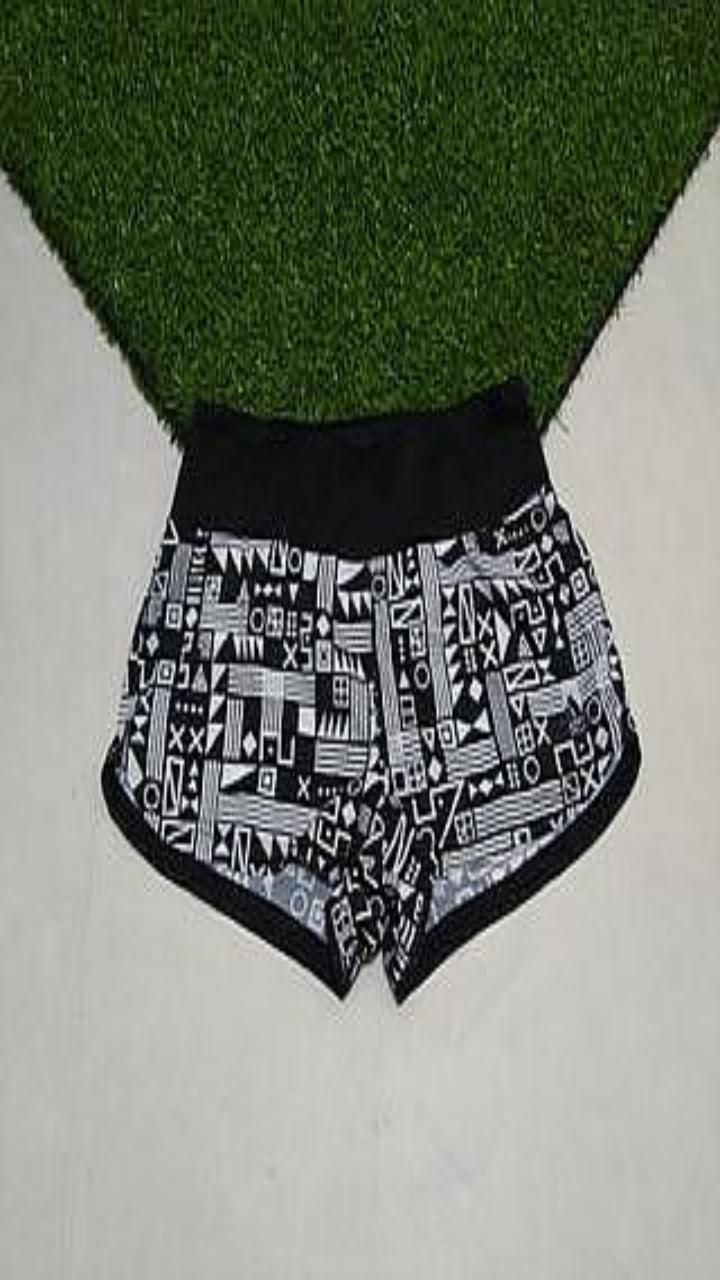Shorts: (102, 379, 640, 1002)
